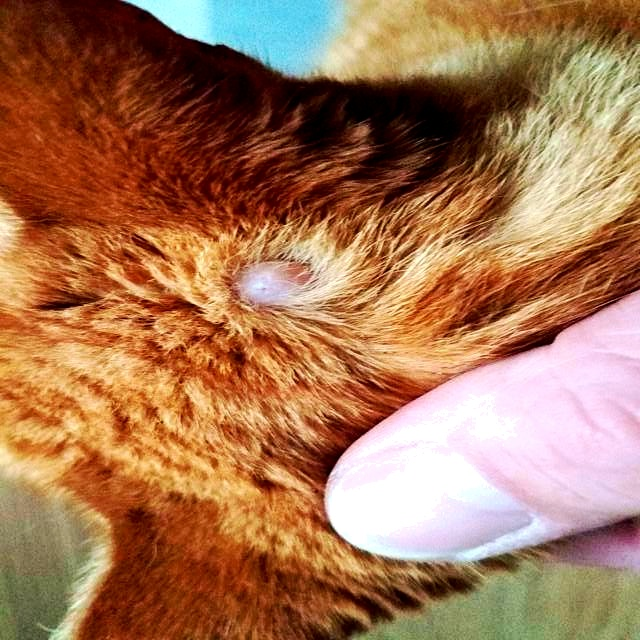lump_and_bump: (231, 250, 320, 310)
